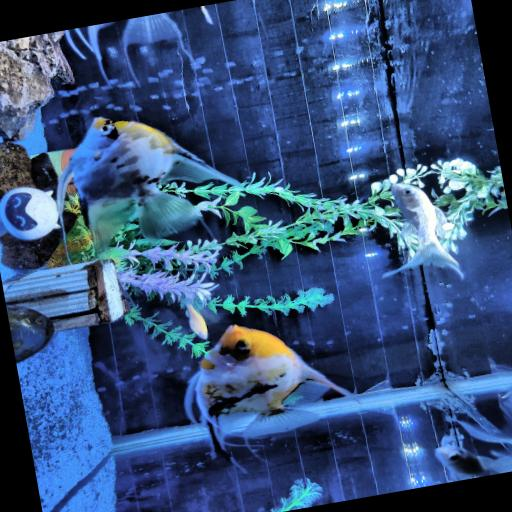Fish: (57, 117, 237, 259), (185, 324, 349, 457), (382, 183, 463, 277), (435, 393, 511, 480), (121, 13, 191, 83), (434, 442, 484, 480), (184, 299, 207, 338), (200, 6, 211, 23)
